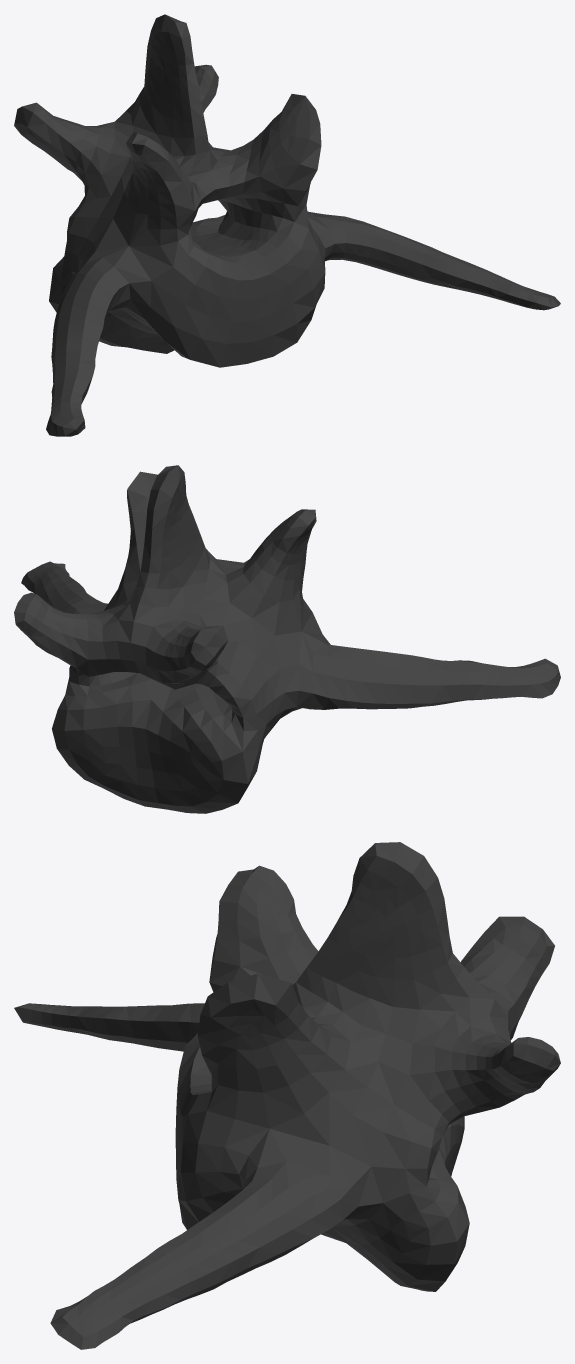
3 renders of one model, top to bottom at view 1: azimuth 30°, elevation 25°; view 2: azimuth 150°, elevation 25°; view 3: azimuth 270°, elevation 25°, orthographic. The views are drawn at different scales.
Parts seen in each view (by area): view 1: L6; view 2: L6; view 3: L6.
Part boxes in pixels (x1=…): L6: x1=14, y1=14, x2=560, y2=436; L6: x1=14, y1=465, x2=560, y2=813; L6: x1=14, y1=842, x2=560, y2=1349.
Bounding box in the file's own units: 4.68 × 2.88 × 3.32.
Materials: 1 (1 with a texture image).
